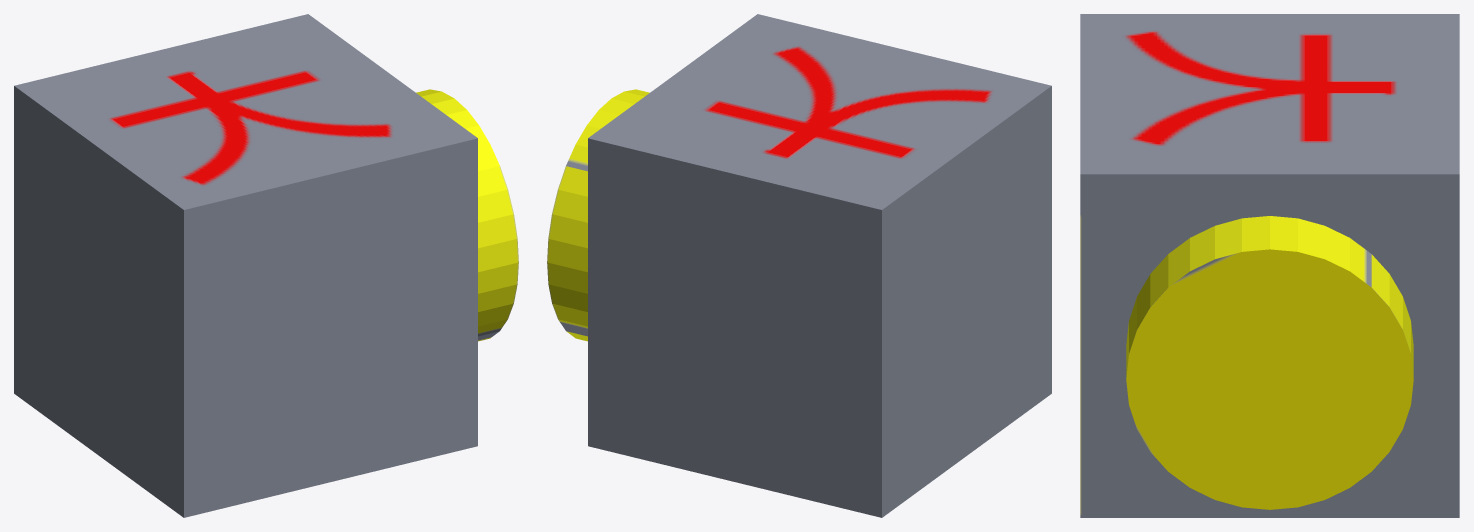
File: switch_big.obj
The picture shows the model from 3 angles, left to right: view 1: azimuth 30°, elevation 25°; view 2: azimuth 150°, elevation 25°; view 3: azimuth 270°, elevation 25°; orthographic projection. The views are drawn at different scales.
Visible parts, largest first — view 1: 円柱; view 2: 円柱; view 3: 円柱.
Part boxes in pixels (x1,y1,x2,y2): 円柱: [14, 14, 518, 517]; 円柱: [547, 14, 1051, 517]; 円柱: [1080, 14, 1459, 517].
Size of the model in its own units: 2.42 by 2 by 2.
1 material, 1 textured.
